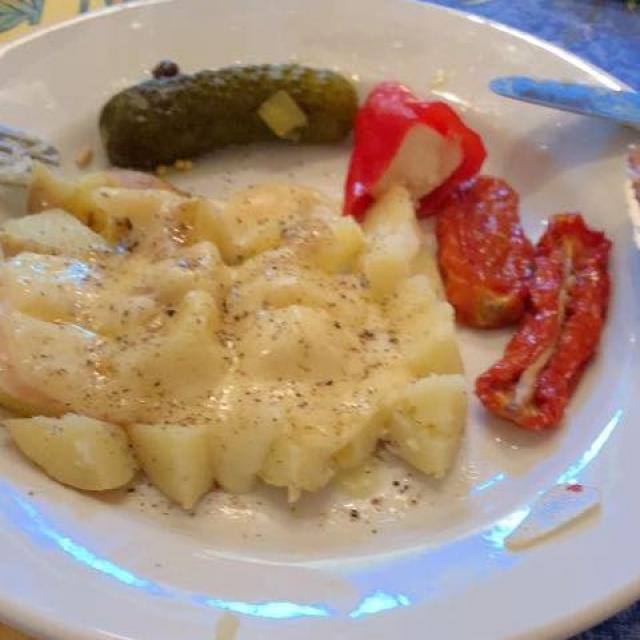cheese-for-raclette: (20, 176, 433, 492)
cucumber-pickled: (98, 44, 367, 171)
potatoes-steamed: (15, 184, 559, 506)
sun-dried-tomatoe: (444, 171, 617, 456)
